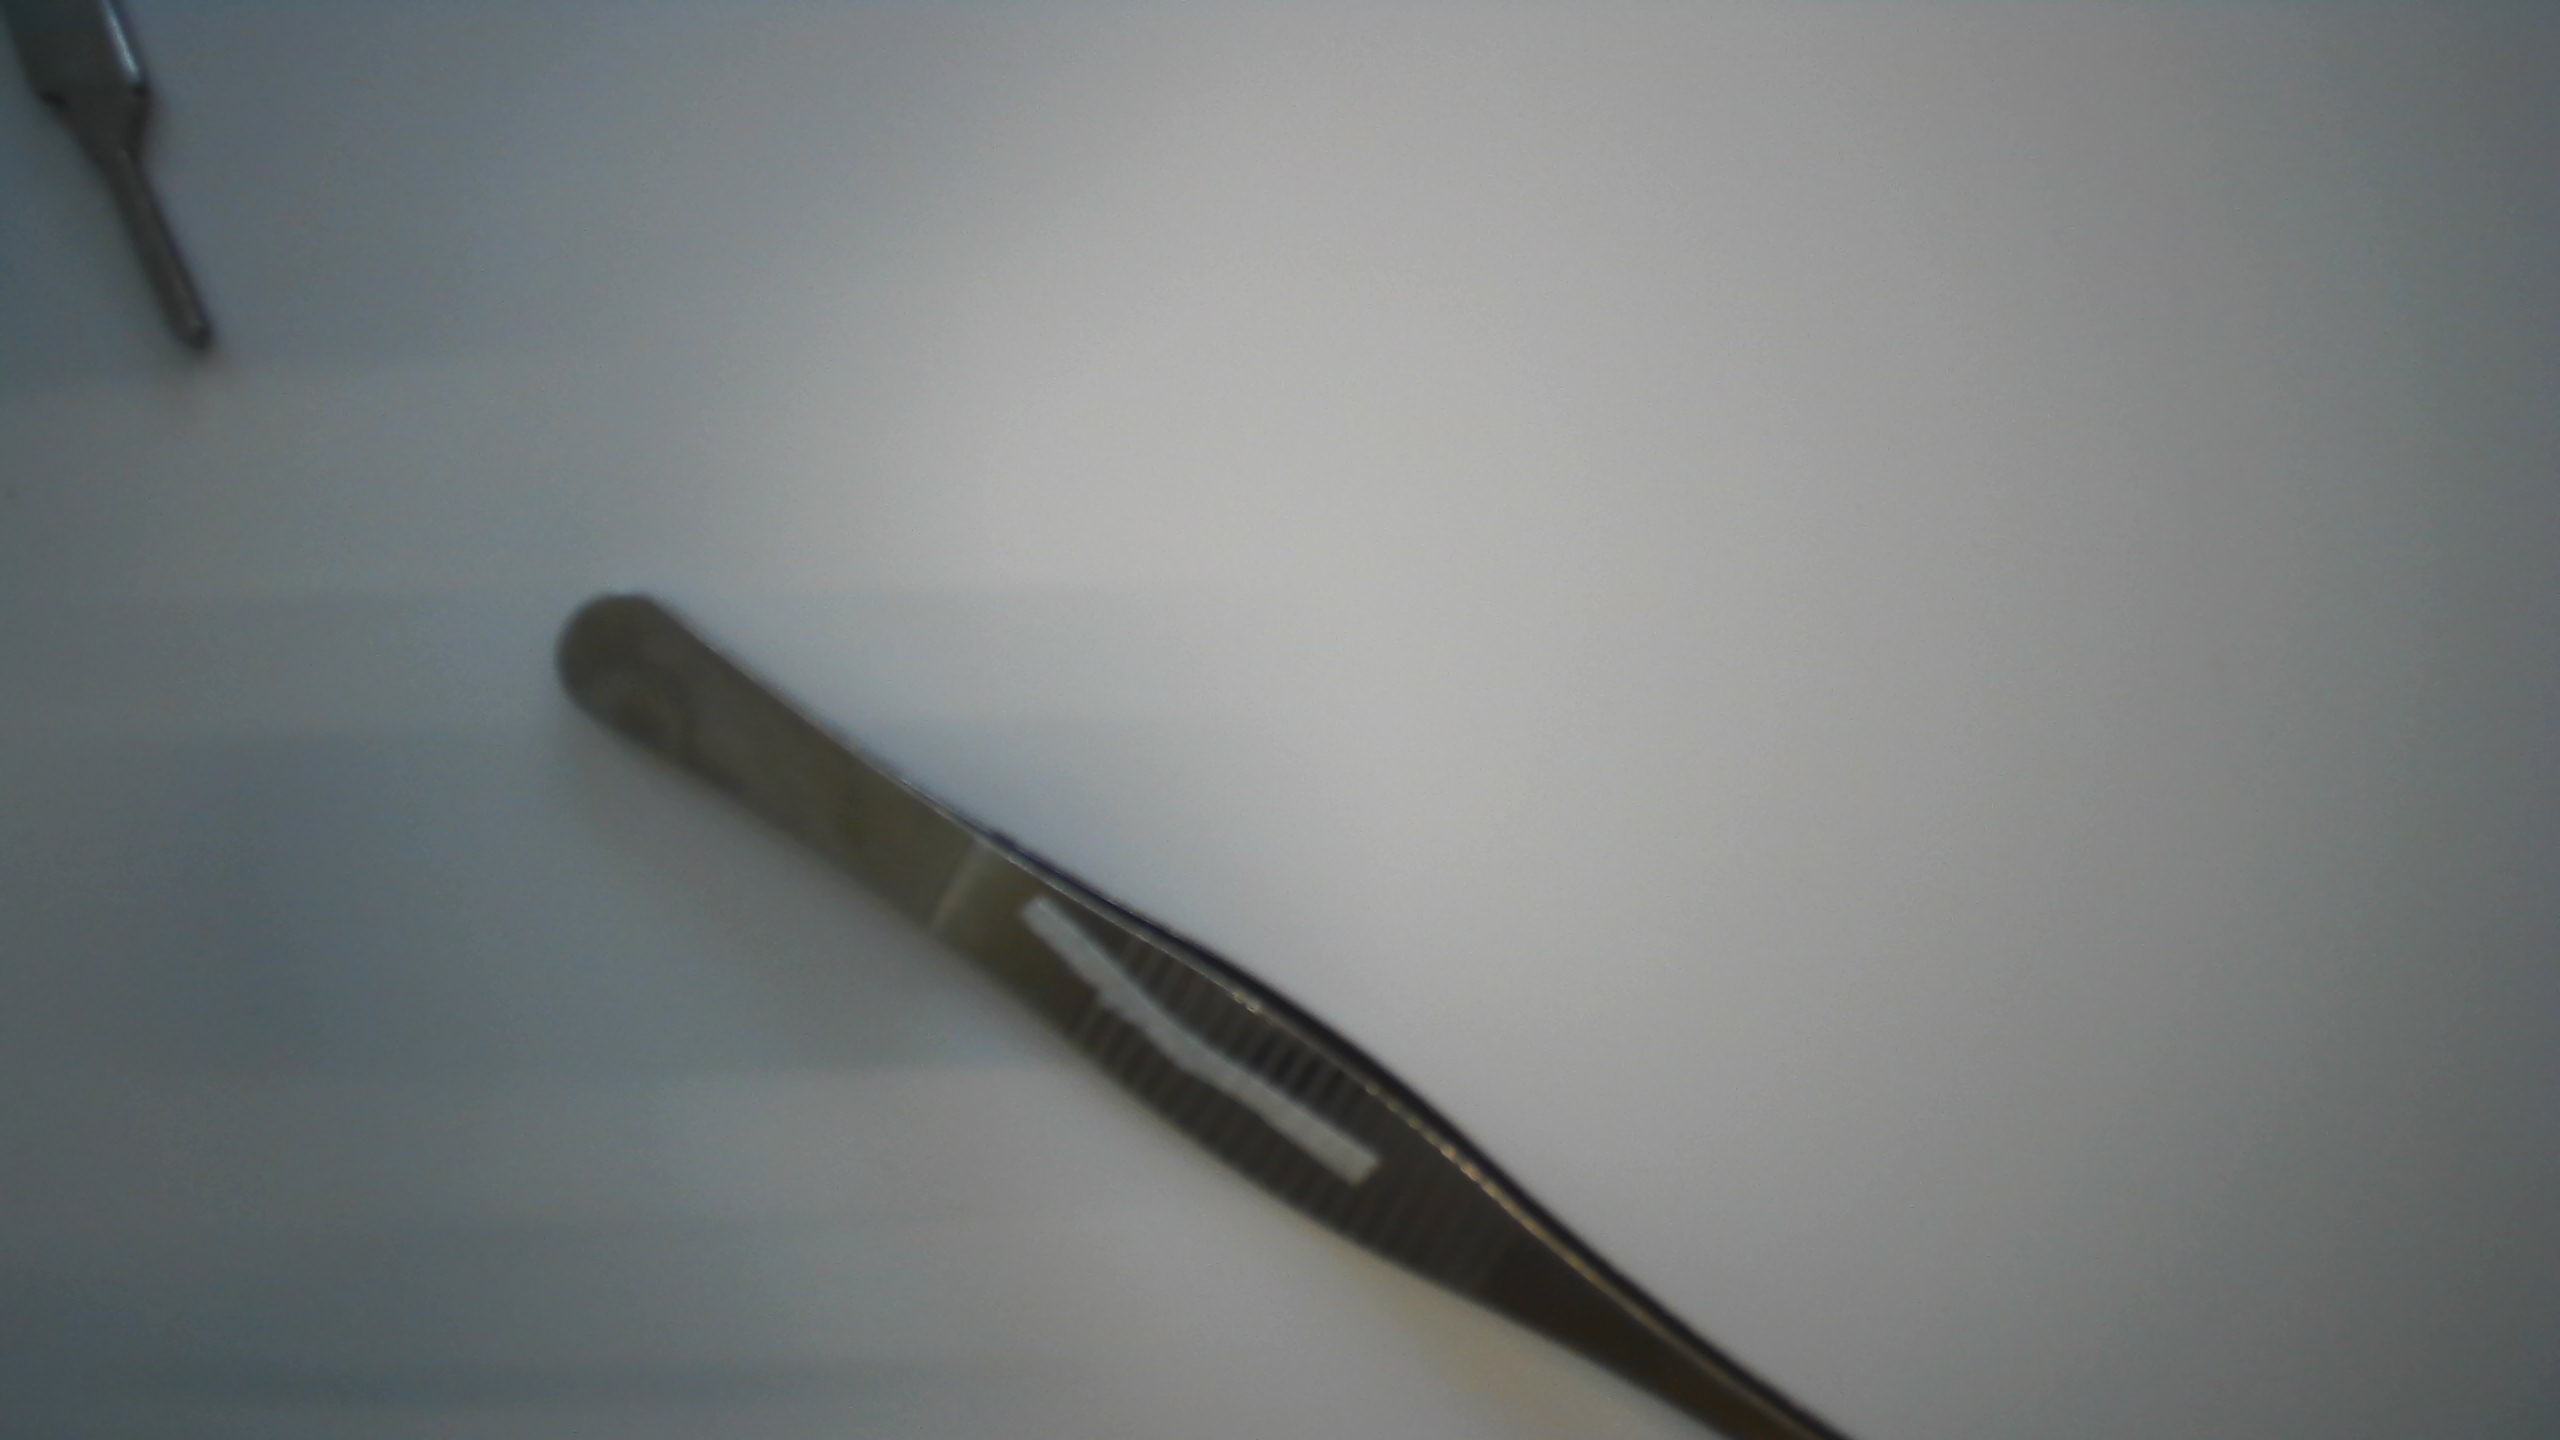Scratches: (1007, 883, 1385, 1194)
